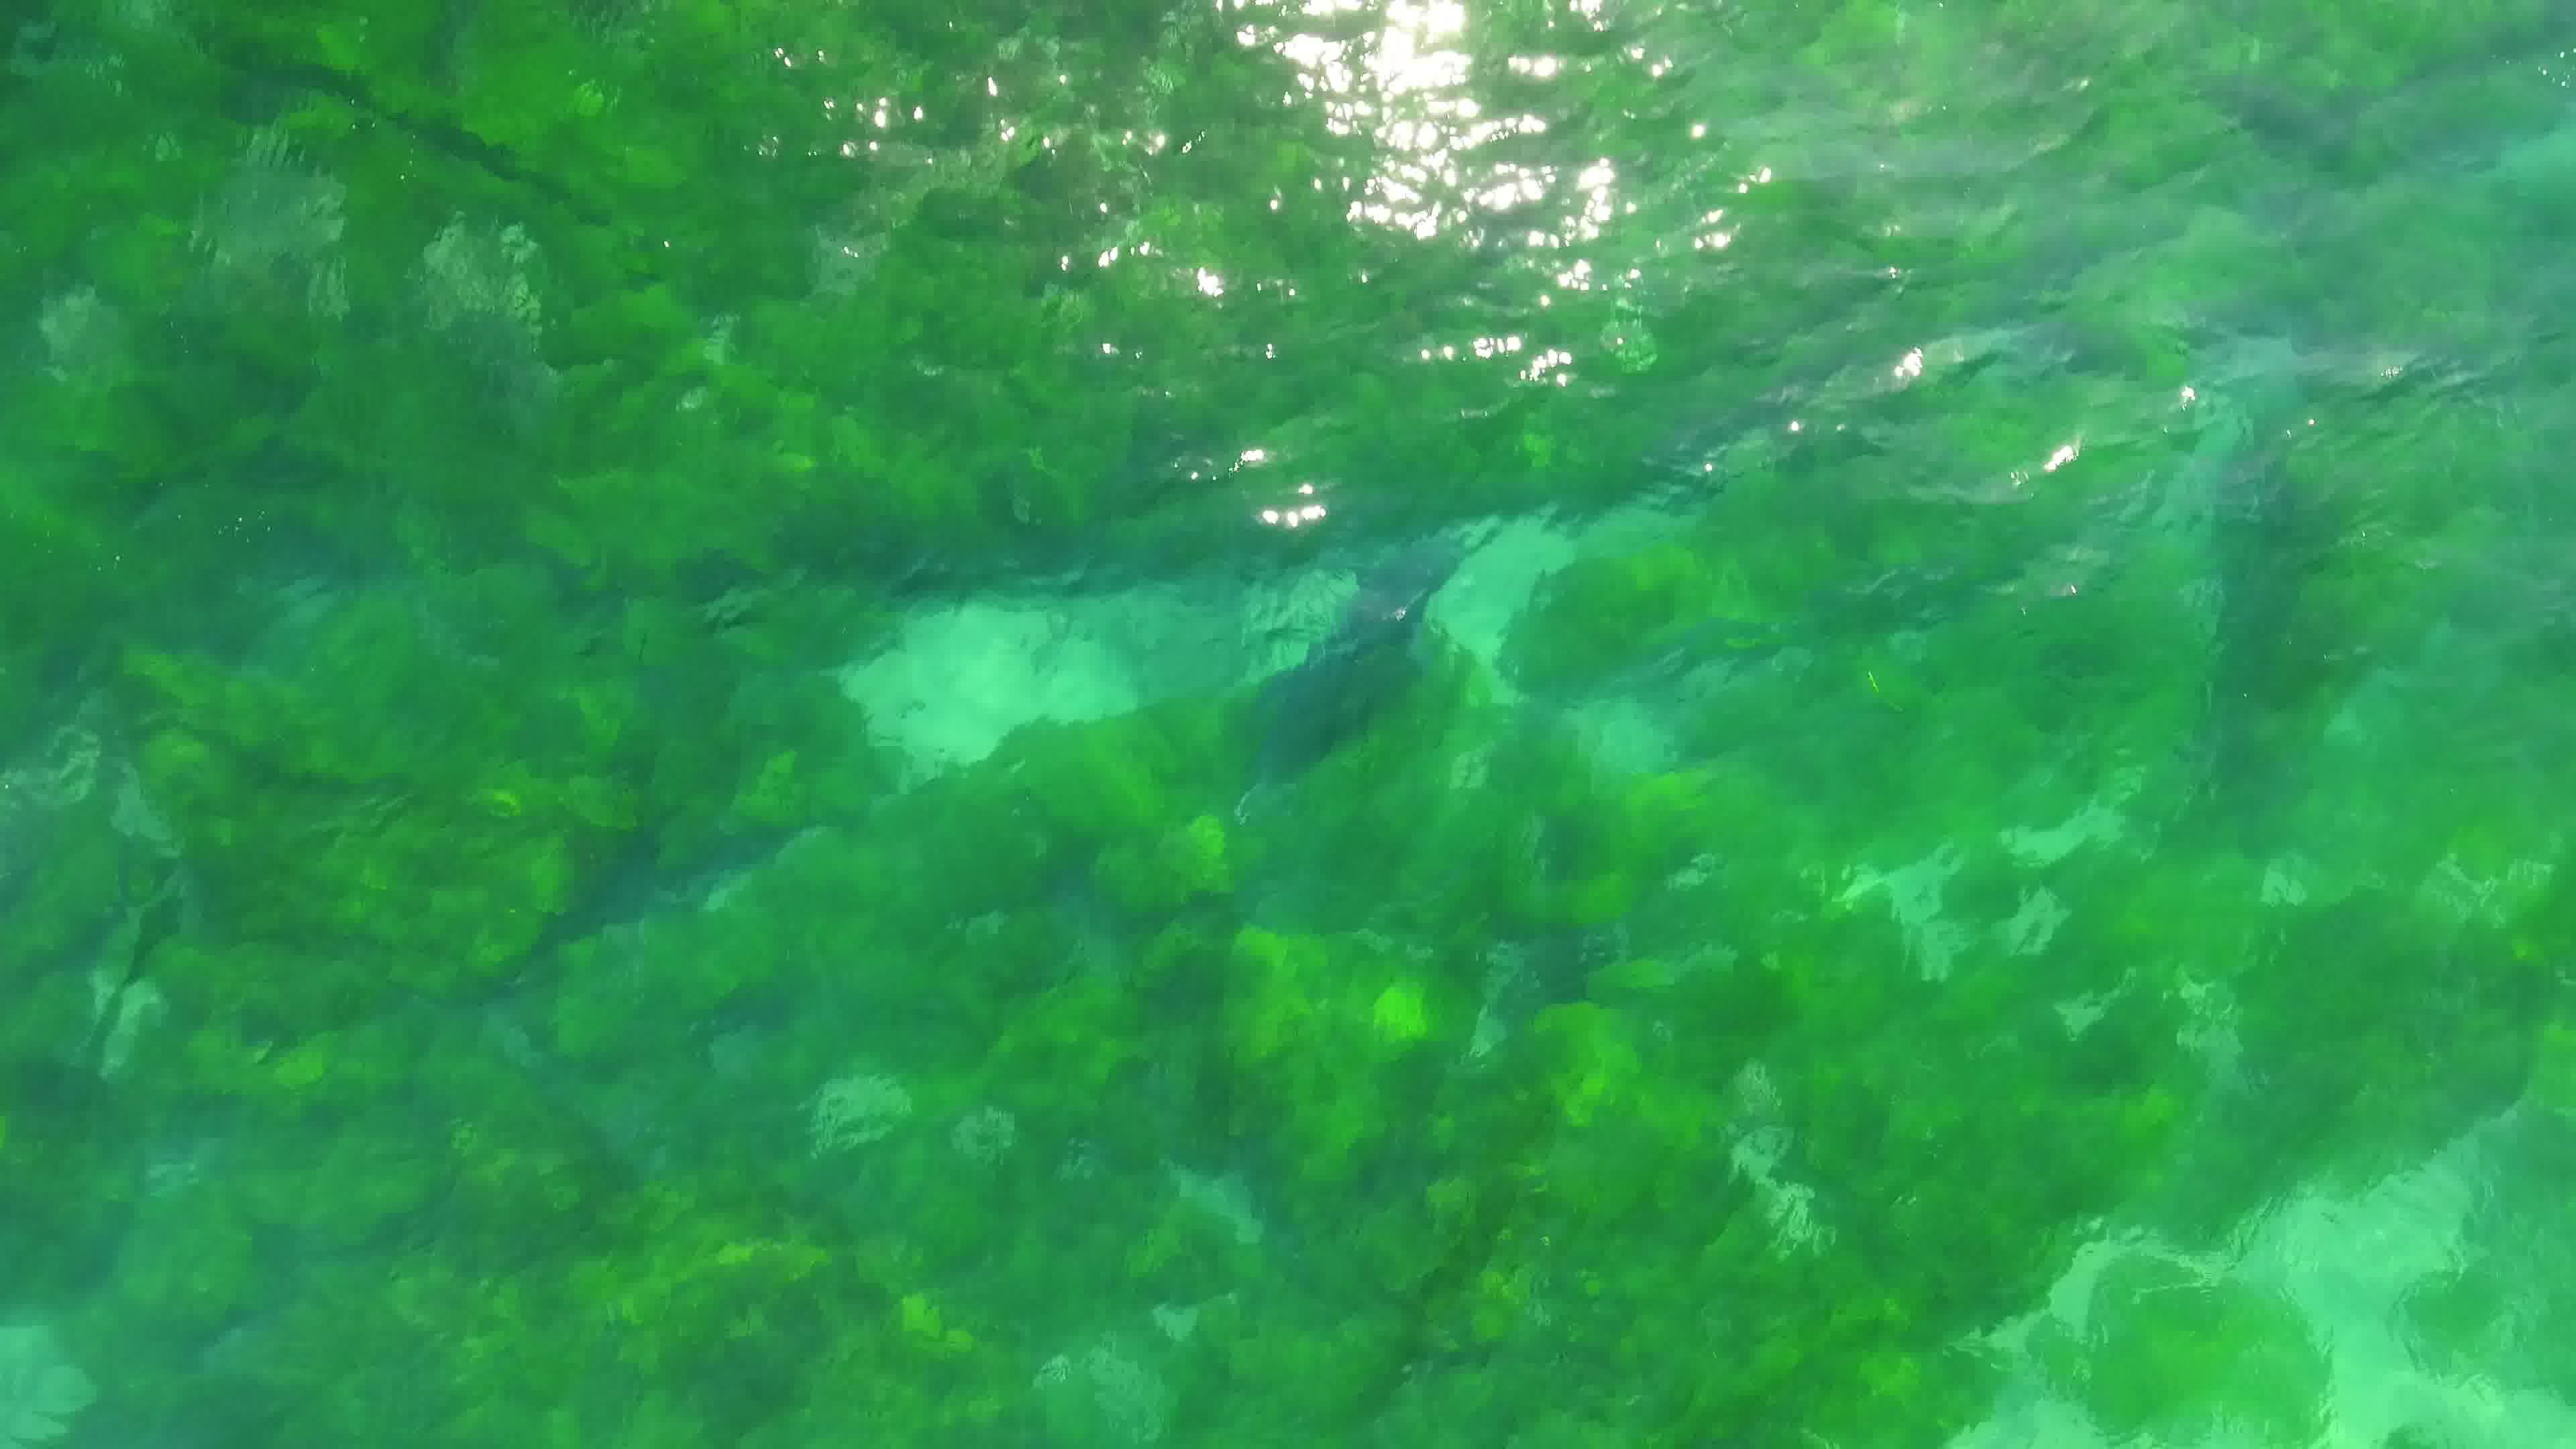shark: (1207, 502, 1477, 821)
